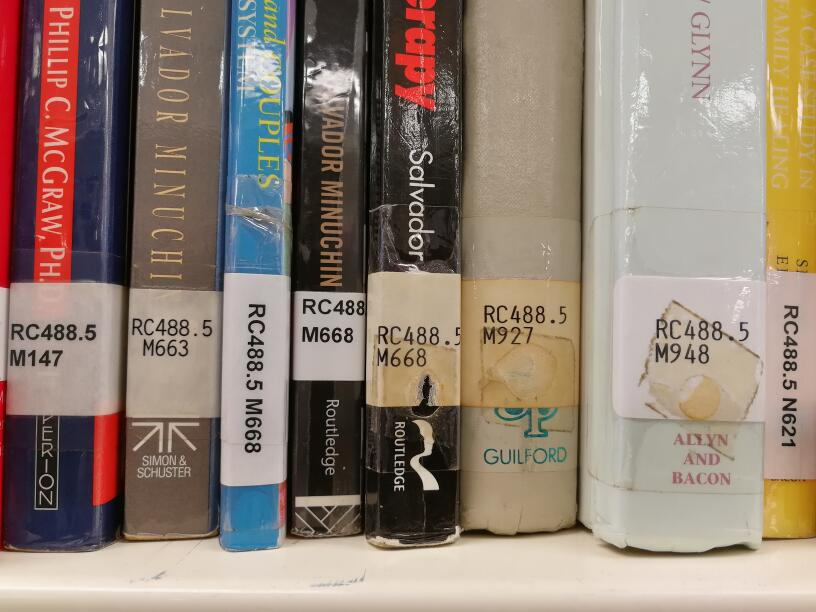booklabel: (654, 317, 751, 364), (9, 322, 98, 367), (375, 323, 462, 368), (480, 304, 567, 346), (241, 301, 265, 453), (130, 315, 213, 358), (297, 297, 365, 345), (778, 303, 800, 447)
